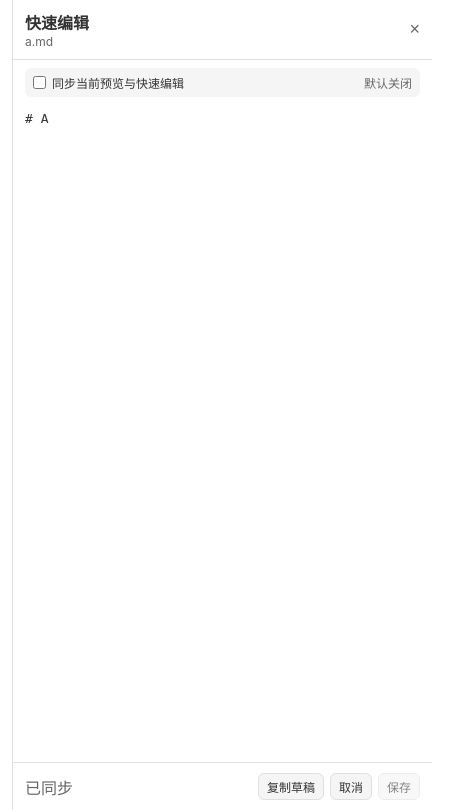
Scenario: QuickEditDrawer › explains when scroll sync cannot start without a preview container
The width and height of the screenshot is (449, 810).
Click the switch named "同步当前预览区与快速编辑区滚动": coordinates (40, 82) [33, 76, 46, 89]
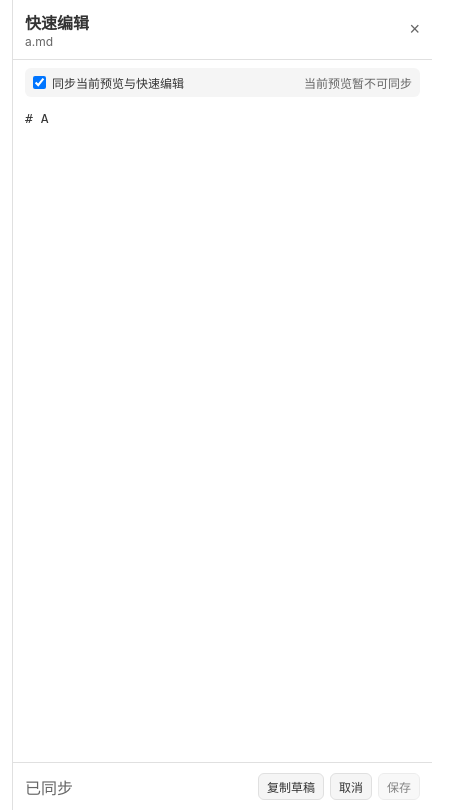
Now the text "当前预览暂不可同步" is shown, box [304, 74, 412, 91]
